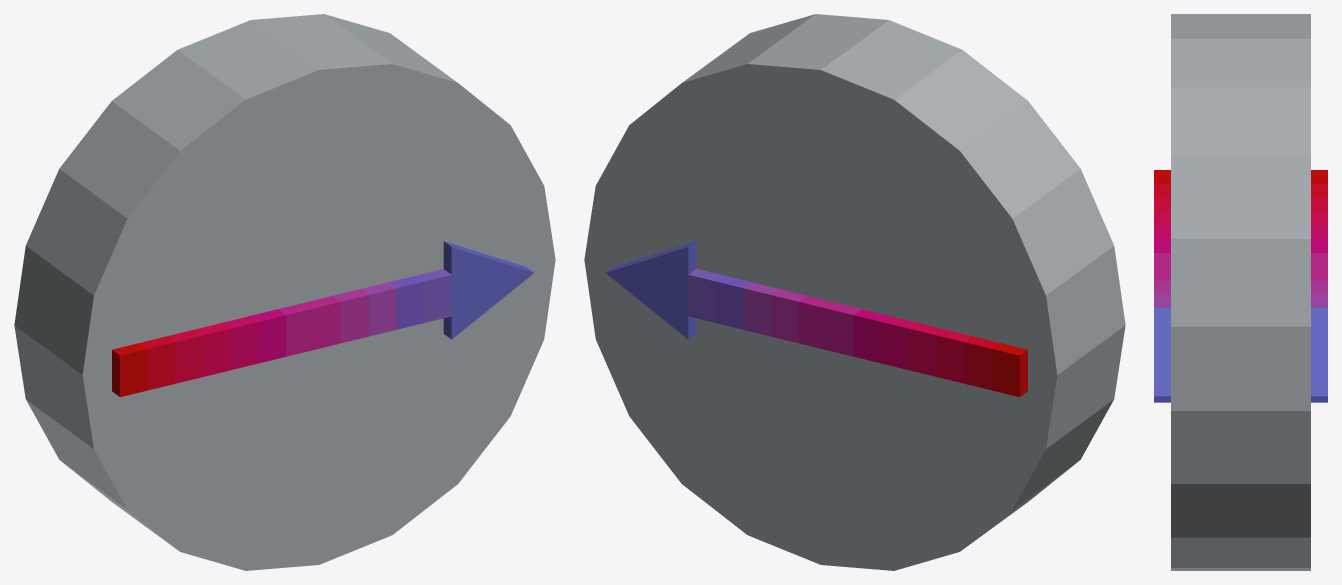
File: tinker.obj
3 renders of one model, left to right at view 1: azimuth 30°, elevation 25°; view 2: azimuth 150°, elevation 25°; view 3: azimuth 270°, elevation 25°, orthographic. The views are drawn at different scales.
Parts seen in each view (by area): view 1: group_0_10988977, group_0_6382789, group_0_12787854, group_0_13631488, group_0_13500539, group_0_8018880, group_0_11875487, group_0_14286930, group_0_7754948, group_0_14090275, group_0_14286907, group_0_14024807 (+1 smaller); view 2: group_0_10988977, group_0_6382789, group_0_12787854, group_0_13631488, group_0_13500539, group_0_8018880, group_0_11875487, group_0_14286930, group_0_7754948, group_0_14090275, group_0_14286907, group_0_14024807 (+1 smaller); view 3: group_0_10988977, group_0_6382789, group_0_12787854, group_0_11875487, group_0_14286907, group_0_14286930, group_0_10765485, group_0_13500539, group_0_13631488, group_0_14024807, group_0_14090275.
Part boxes in pixels (x1,y1,x2,y2): group_0_10988977: [14, 14, 555, 570]; group_0_6382789: [443, 241, 533, 339]; group_0_12787854: [278, 296, 340, 356]; group_0_13631488: [112, 343, 147, 397]; group_0_13500539: [250, 309, 286, 363]; group_0_8018880: [416, 269, 451, 322]; group_0_11875487: [333, 289, 368, 343]; group_0_14286930: [195, 322, 230, 376]; group_0_7754948: [388, 275, 423, 329]; group_0_14090275: [140, 336, 175, 390]; group_0_14286907: [167, 329, 202, 383]; group_0_14024807: [223, 316, 258, 369]; group_0_10988977: [584, 14, 1125, 570]; group_0_6382789: [606, 241, 696, 339]; group_0_12787854: [799, 296, 861, 356]; group_0_13631488: [992, 343, 1027, 397]; group_0_13500539: [853, 309, 889, 363]; group_0_8018880: [688, 269, 723, 322]; group_0_11875487: [771, 289, 806, 343]; group_0_14286930: [909, 322, 944, 376]; group_0_7754948: [716, 275, 751, 329]; group_0_14090275: [964, 336, 999, 390]; group_0_14286907: [937, 329, 972, 383]; group_0_14024807: [881, 316, 916, 369]; group_0_10988977: [1171, 14, 1310, 570]; group_0_6382789: [1154, 307, 1327, 402]; group_0_12787854: [1154, 253, 1327, 280]; group_0_11875487: [1154, 280, 1327, 294]; group_0_14286907: [1154, 197, 1327, 211]; group_0_14286930: [1154, 211, 1327, 225]; group_0_10765485: [1154, 294, 1327, 307]; group_0_13500539: [1154, 239, 1327, 252]; group_0_13631488: [1154, 170, 1327, 183]; group_0_14024807: [1154, 225, 1327, 238]; group_0_14090275: [1154, 184, 1327, 197].
Size of the model in its own units: 1 by 1 by 0.31.
